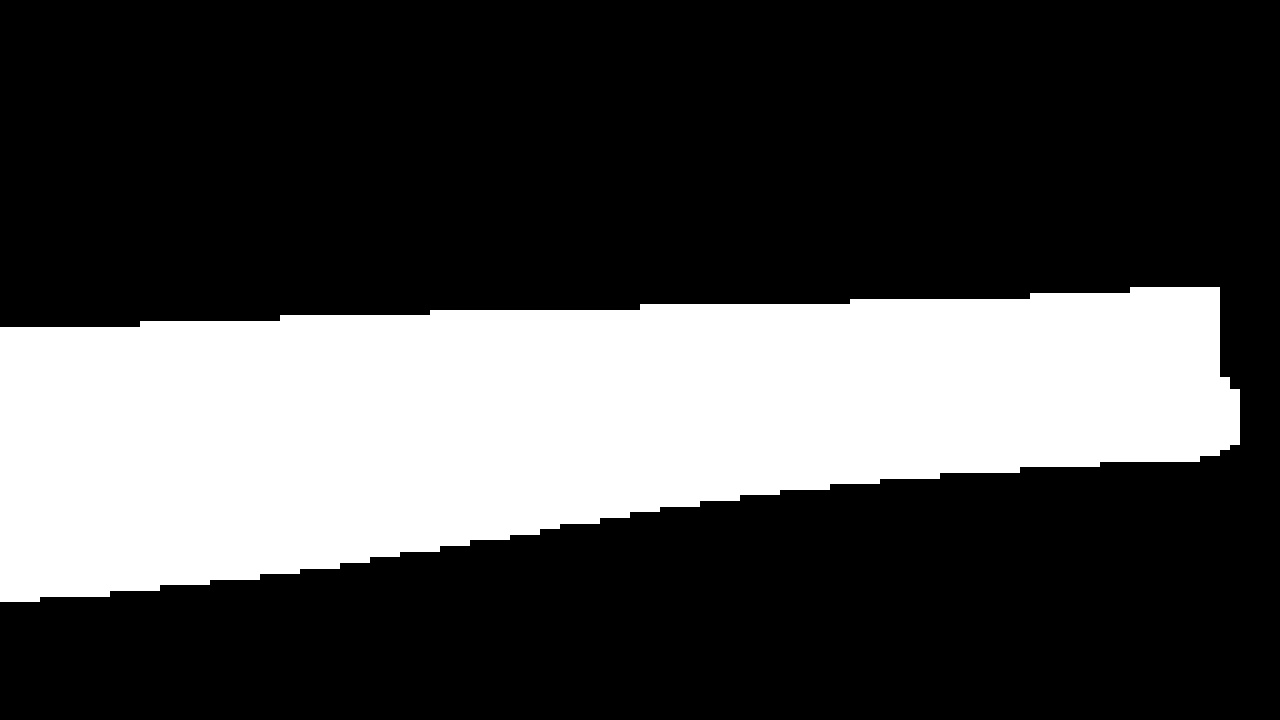Turbine: (8, 253, 1229, 612)
